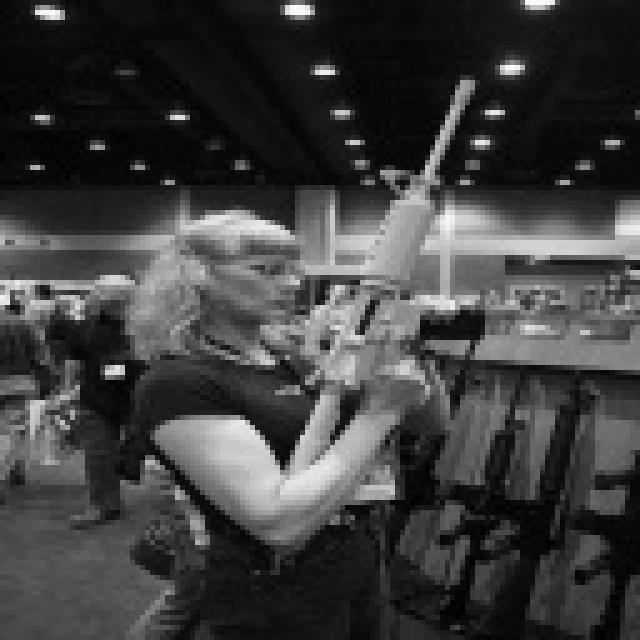Rifle: (188, 47, 517, 595), (472, 354, 612, 634), (391, 283, 495, 586), (433, 360, 543, 640), (571, 426, 640, 640)
